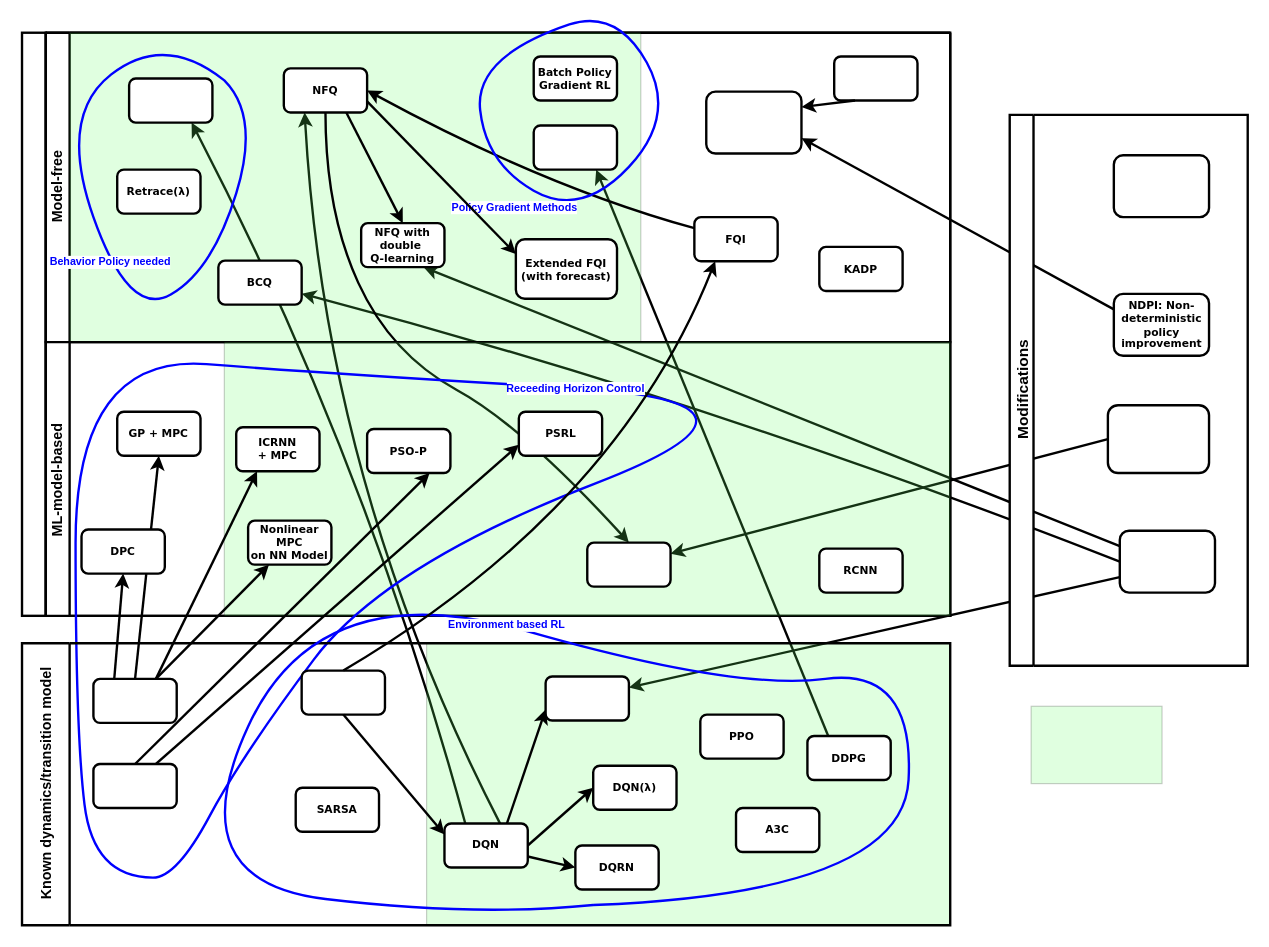
This 1269x947 diagram has some shape labels left out. The shapes that lost their labels are listed below. From the top down, each one's centre as x and y in pixels, then its label:
At point (875, 78): "LSPI".
At point (170, 100): "SPIBB-DQN (Save Policy Improvement)".
At point (753, 122): "LSPI with NDPI".
At point (575, 147): "DDPG in batch mode".
At point (1161, 186): "Feature Selection and Extraction".
At point (33, 323): "Only past data available".
At point (1158, 438): "Policy Evaluation On NN Dynamics Model".
At point (628, 564): "FQI with policy eval on NN".
At point (1167, 561): "Multiple Q-Networks".
At point (134, 700): "MPC".
At point (343, 692): "Q-learning".
At point (587, 698): "Double Q-learning".
At point (1096, 744): "Deep Learning".
At point (134, 785): "PSO".
